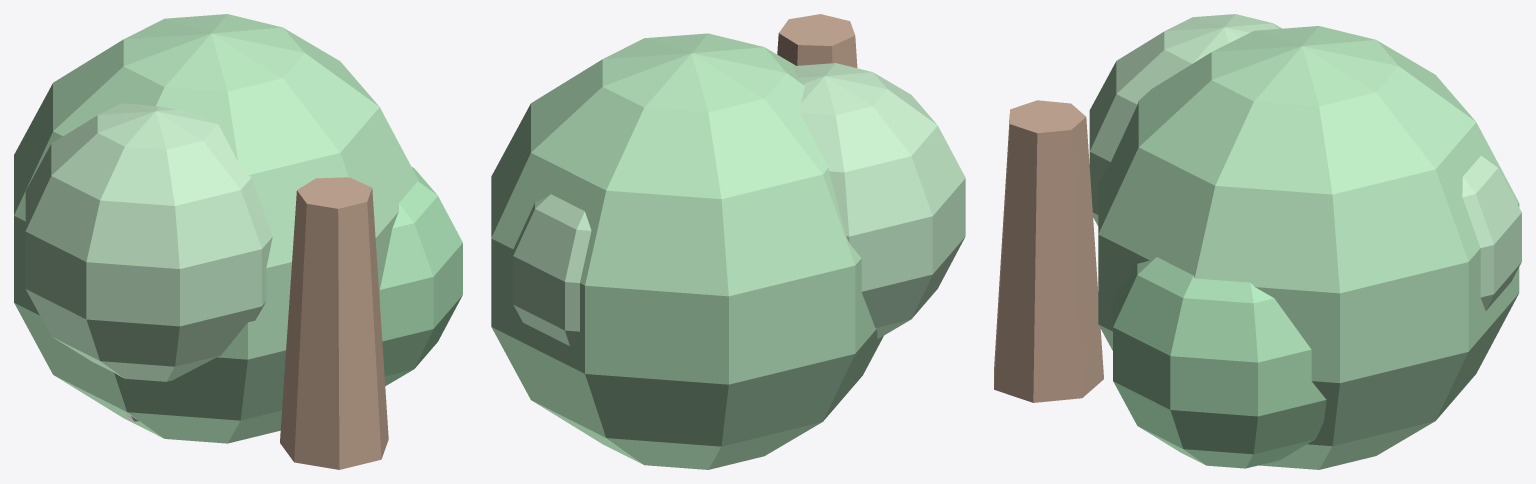
File: tree.glb
3 views of the same model, side by side, from view 1: azimuth 30°, elevation 25°; view 2: azimuth 150°, elevation 25°; view 3: azimuth 270°, elevation 25° (orthographic). The views are drawn at different scales.
Visible parts, largest first — view 1: Foliage0, Foliage1, Trunk, Foliage2; view 2: Foliage0, Foliage1, Foliage3, Trunk; view 3: Foliage0, Foliage2, Trunk, Foliage1, Foliage3.
Boxes of the visible parts, x1,y1,x2,y2 form: Foliage0: (14, 14, 419, 443); Foliage1: (25, 103, 272, 381); Trunk: (280, 177, 388, 469); Foliage2: (380, 167, 462, 385); Foliage0: (491, 33, 883, 469); Foliage1: (792, 63, 965, 338); Foliage3: (513, 194, 591, 345); Trunk: (777, 14, 857, 67); Foliage0: (1098, 26, 1519, 469); Foliage2: (1113, 257, 1326, 468); Trunk: (994, 100, 1103, 402); Foliage1: (1089, 14, 1281, 225); Foliage3: (1462, 155, 1521, 310).
Bounding box in the file's own units: 2.21 × 2 × 2.37.
